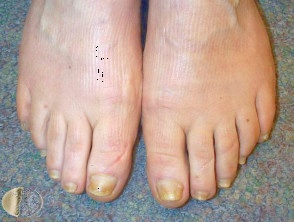Nail_psoriasis: (86, 170, 118, 201), (154, 178, 184, 204), (62, 180, 78, 195), (191, 190, 209, 201), (260, 130, 274, 142), (237, 153, 249, 166), (218, 178, 232, 188), (48, 169, 61, 179), (18, 121, 28, 131), (37, 148, 47, 157)
